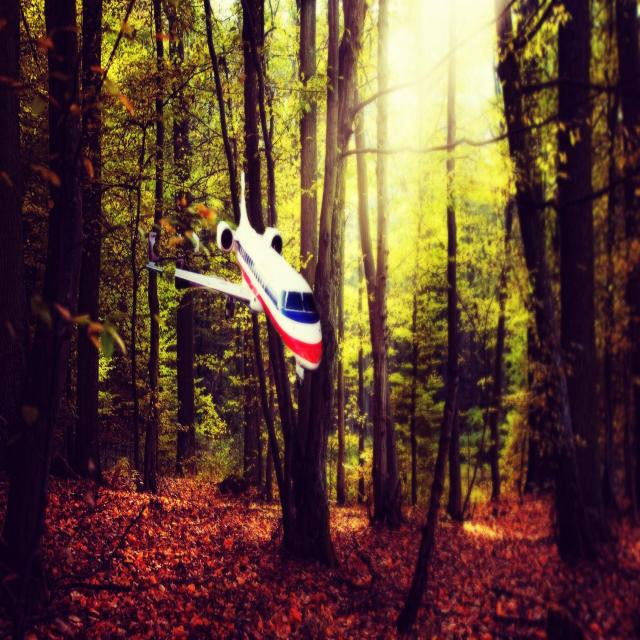airplane: (174, 168, 323, 386)
